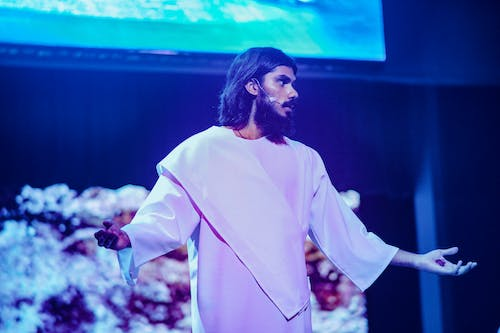blood: (93, 219, 131, 252), (434, 257, 447, 269)
